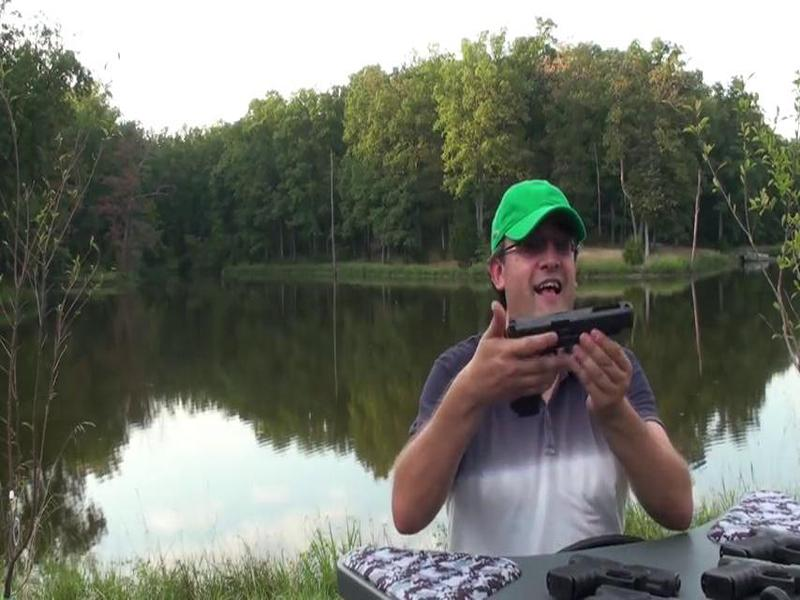Pistola: (490, 294, 649, 432)
